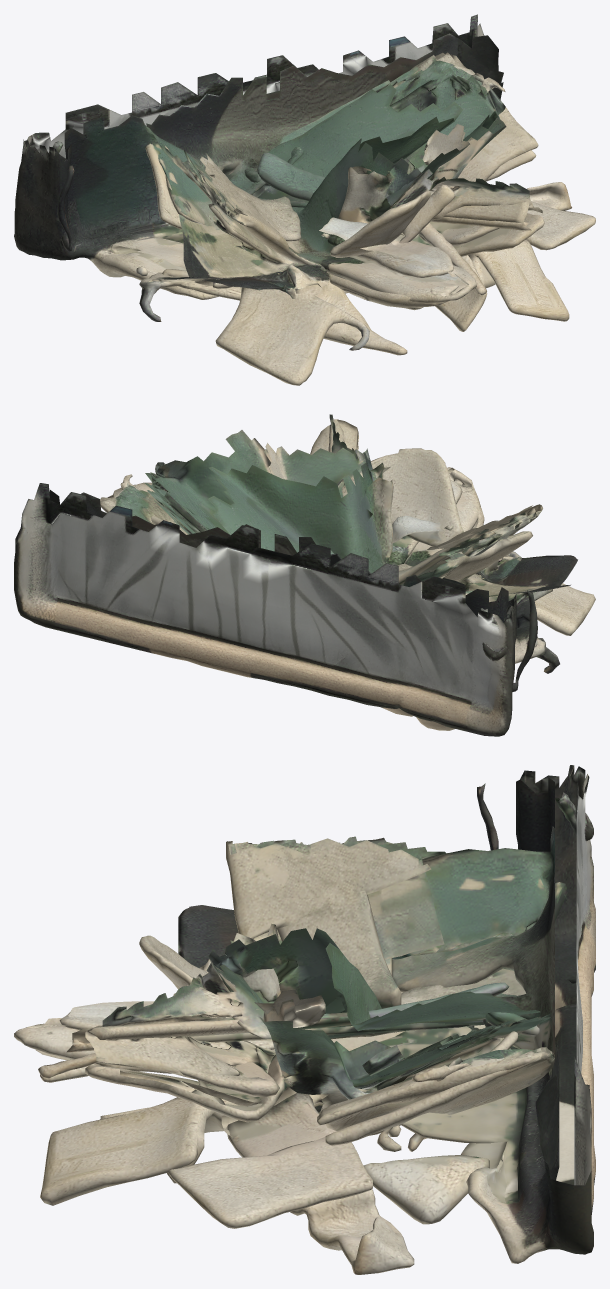
The model's file is debris_slab_1.glb.
3 renders of one model, top to bottom at view 1: azimuth 30°, elevation 25°; view 2: azimuth 150°, elevation 25°; view 3: azimuth 270°, elevation 25°, orthographic. The views are drawn at different scales.
Size of the model in its own units: 1.43 by 0.4736 by 1.05.
1 material, 1 textured.
